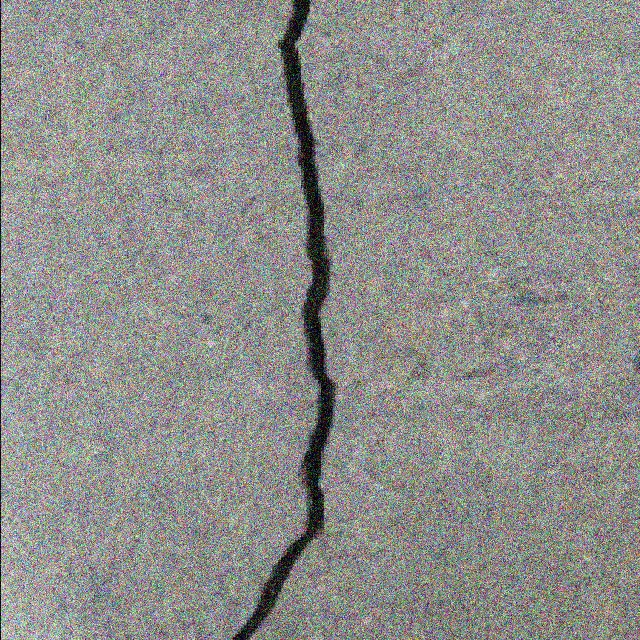SurfaceCrack: (188, 0, 374, 640)
